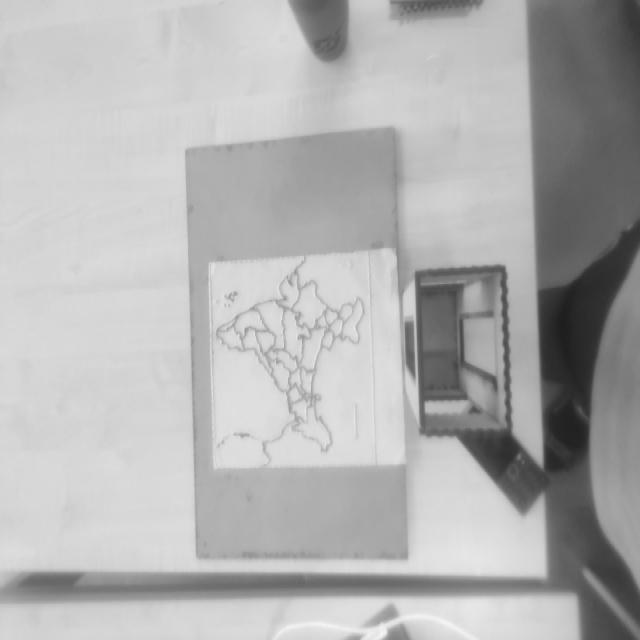map: (207, 251, 377, 470)
